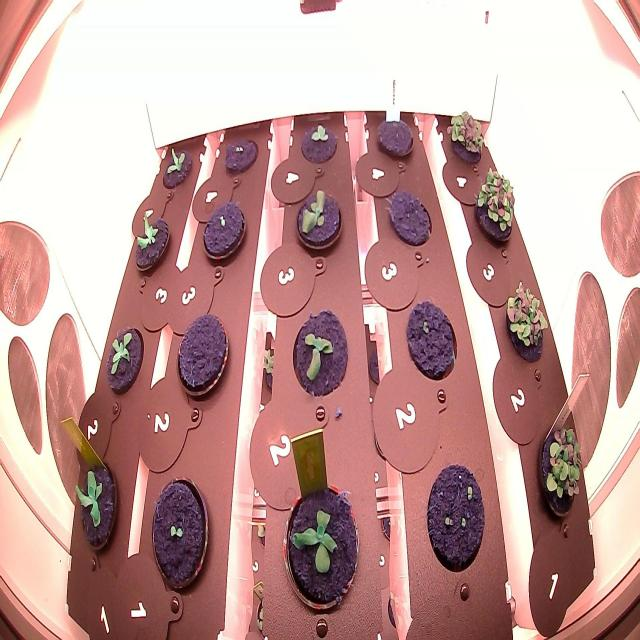germination: (419, 454, 498, 582), (146, 464, 215, 602), (198, 194, 252, 266), (297, 109, 341, 172), (218, 124, 262, 180)
pod: (402, 286, 461, 390), (175, 309, 234, 404), (382, 180, 438, 254), (370, 109, 420, 170)
young: (282, 479, 362, 619), (283, 300, 354, 409), (63, 447, 124, 559), (96, 308, 152, 405), (287, 179, 349, 263), (126, 200, 178, 286), (155, 131, 198, 195)
